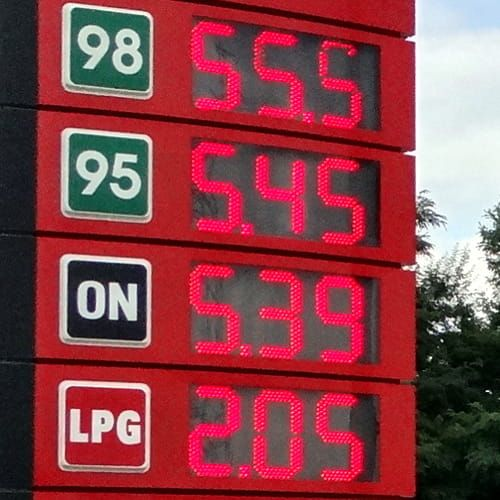LPG: (53, 373, 155, 475)
ON: (55, 251, 153, 352)
PB95: (57, 121, 155, 226)
PB98: (59, 0, 161, 103)
